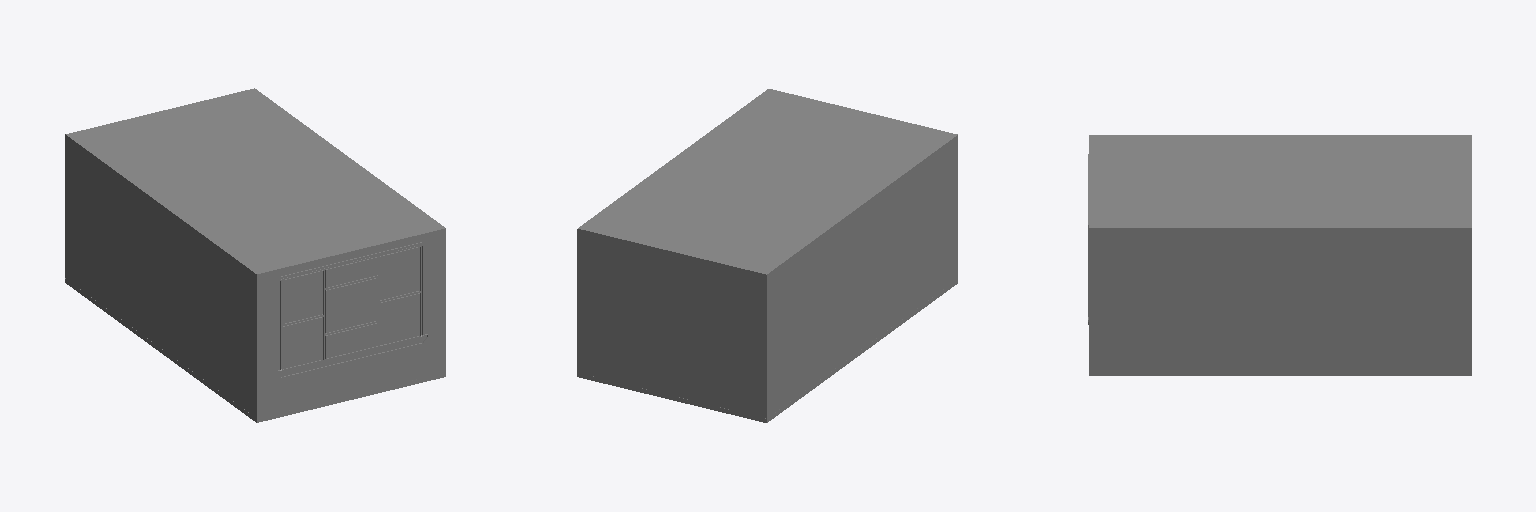
The model's file is Room.obj.
3 views of the same model, side by side, from view 1: azimuth 30°, elevation 25°; view 2: azimuth 150°, elevation 25°; view 3: azimuth 270°, elevation 25° (orthographic).
Visible parts, largest first — view 1: Room; view 2: Room; view 3: Room.
Boxes of the visible parts, <box> form: Room: <box>65,88,445,422</box>; Room: <box>577,89,957,422</box>; Room: <box>1088,135,1471,375</box>.
Size of the model in its own units: 158 by 118 by 277.